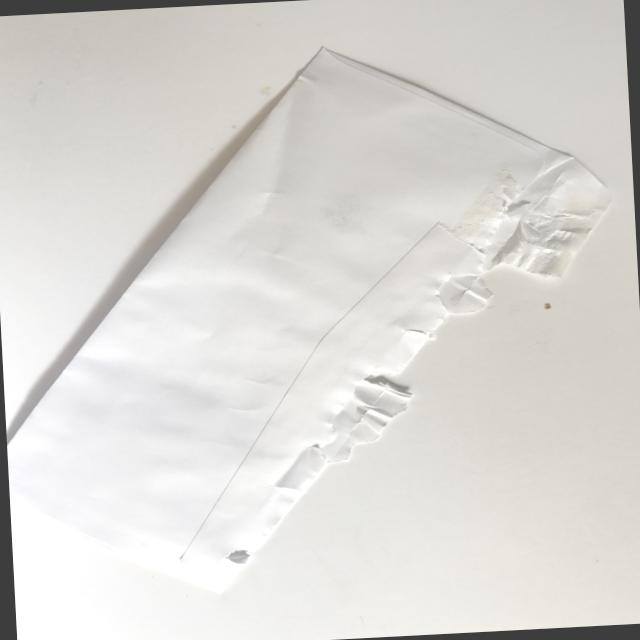Paper: (0, 20, 640, 630)
